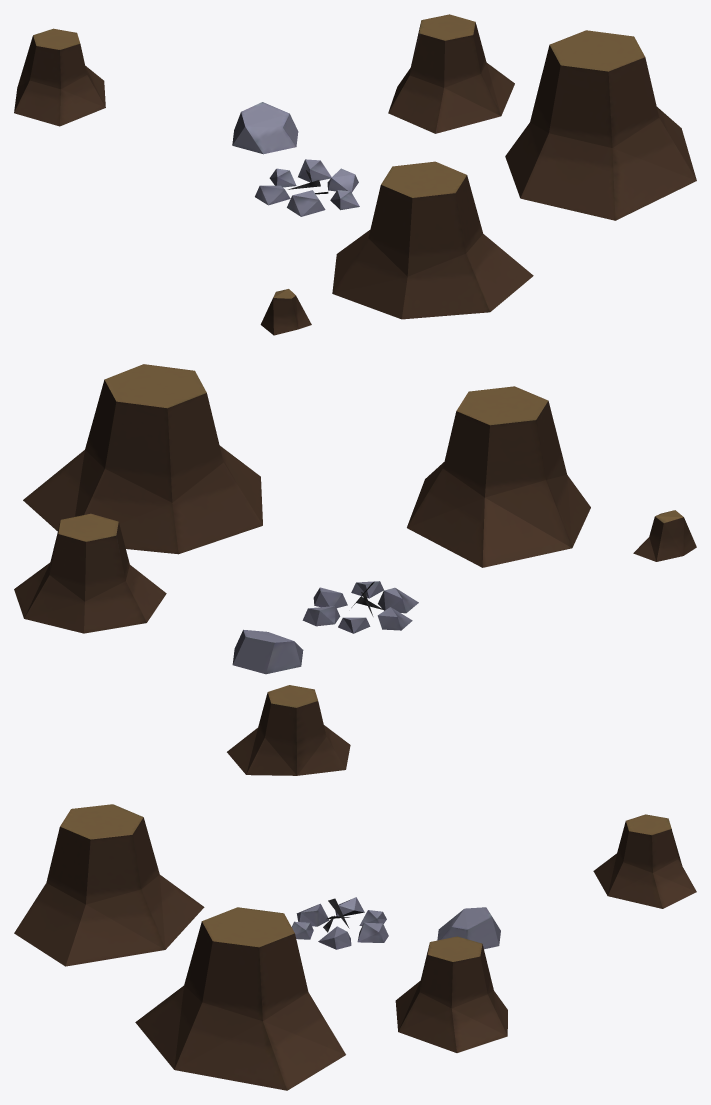
Rendered from tile_wood_2_ruin_lod1.fbx.
3 renders of one model, top to bottom at view 1: azimuth 30°, elevation 25°; view 2: azimuth 150°, elevation 25°; view 3: azimuth 270°, elevation 25°, orthographic. The views are drawn at different scales.
Visible parts, largest first — view 1: wood_2_ruin_LOD1; view 2: wood_2_ruin_LOD1; view 3: wood_2_ruin_LOD1.
Part boxes in pixels (x1,y1,x2,y2): wood_2_ruin_LOD1: (14,14,696,335); wood_2_ruin_LOD1: (14,364,696,775); wood_2_ruin_LOD1: (14,804,696,1090).
Size of the model in its own units: 0.0261 by 0.00567 by 0.0306.
